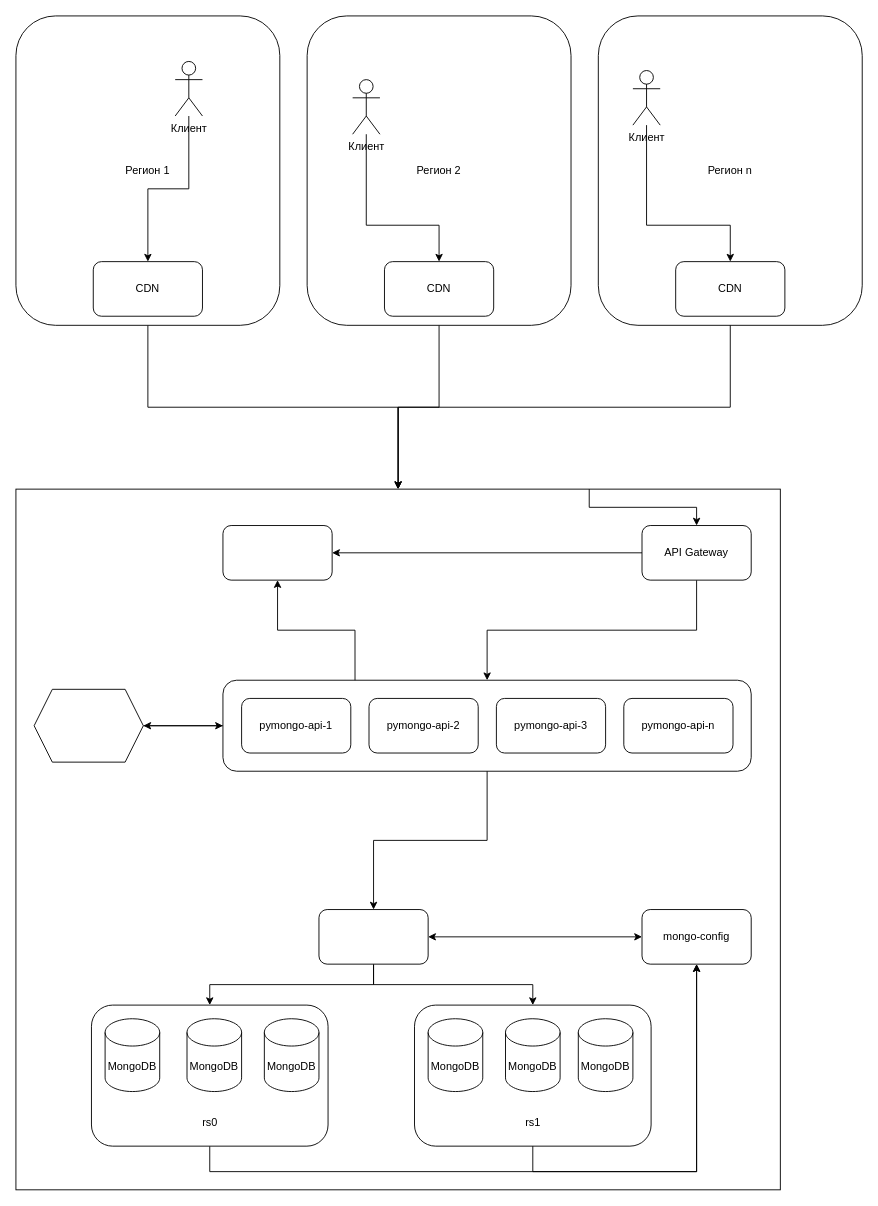
This 878x1206 diagram has some shape labels left out. Here are the shapes that lost their labels. From the top down, the box of each, then its label:
(222, 525, 332, 580): Consul
(33, 688, 143, 762): Redis
(318, 909, 428, 964): mongos-router
